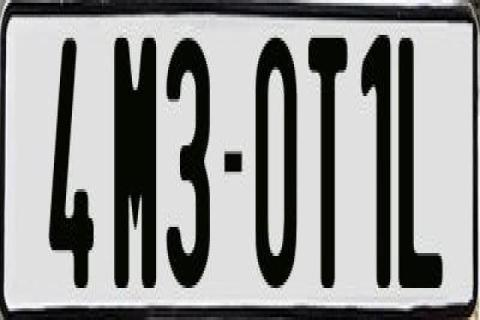0: (47, 29, 98, 282), (252, 35, 300, 299), (166, 32, 210, 282), (358, 29, 390, 297)
L: (399, 35, 443, 285)
M: (112, 38, 158, 300)
T: (306, 32, 349, 300)
